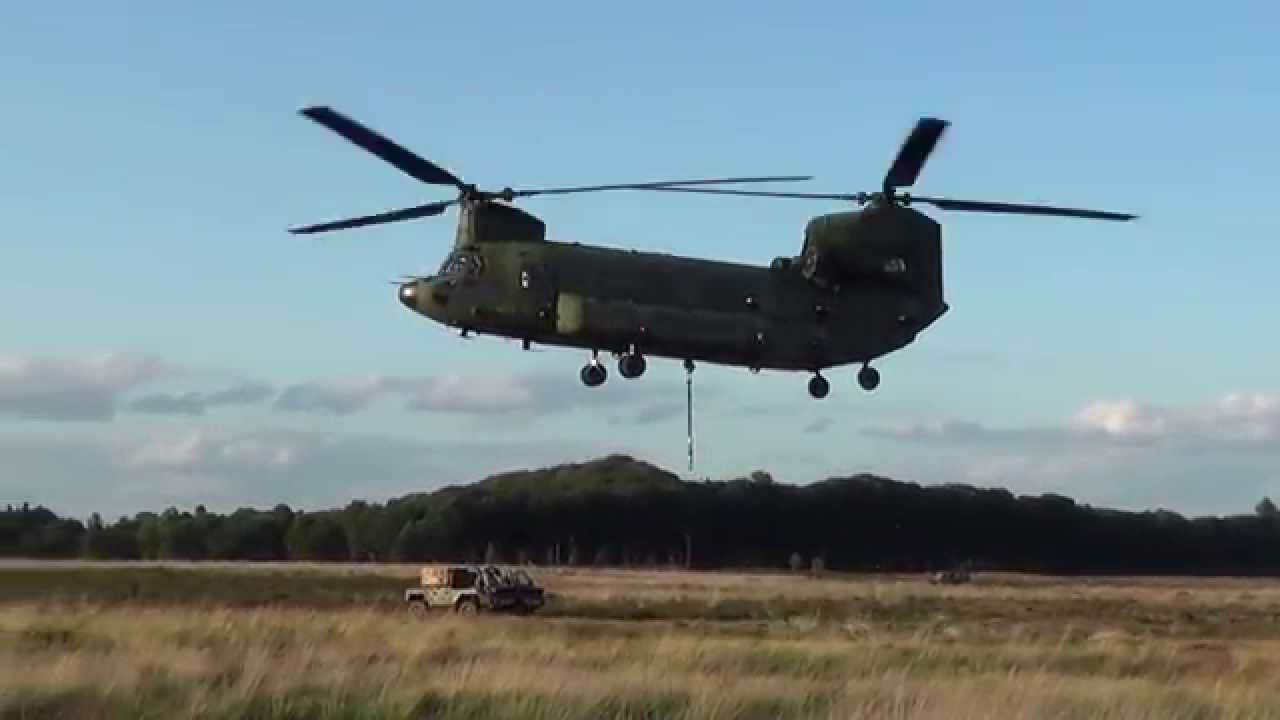chinook: (279, 114, 1135, 385)
